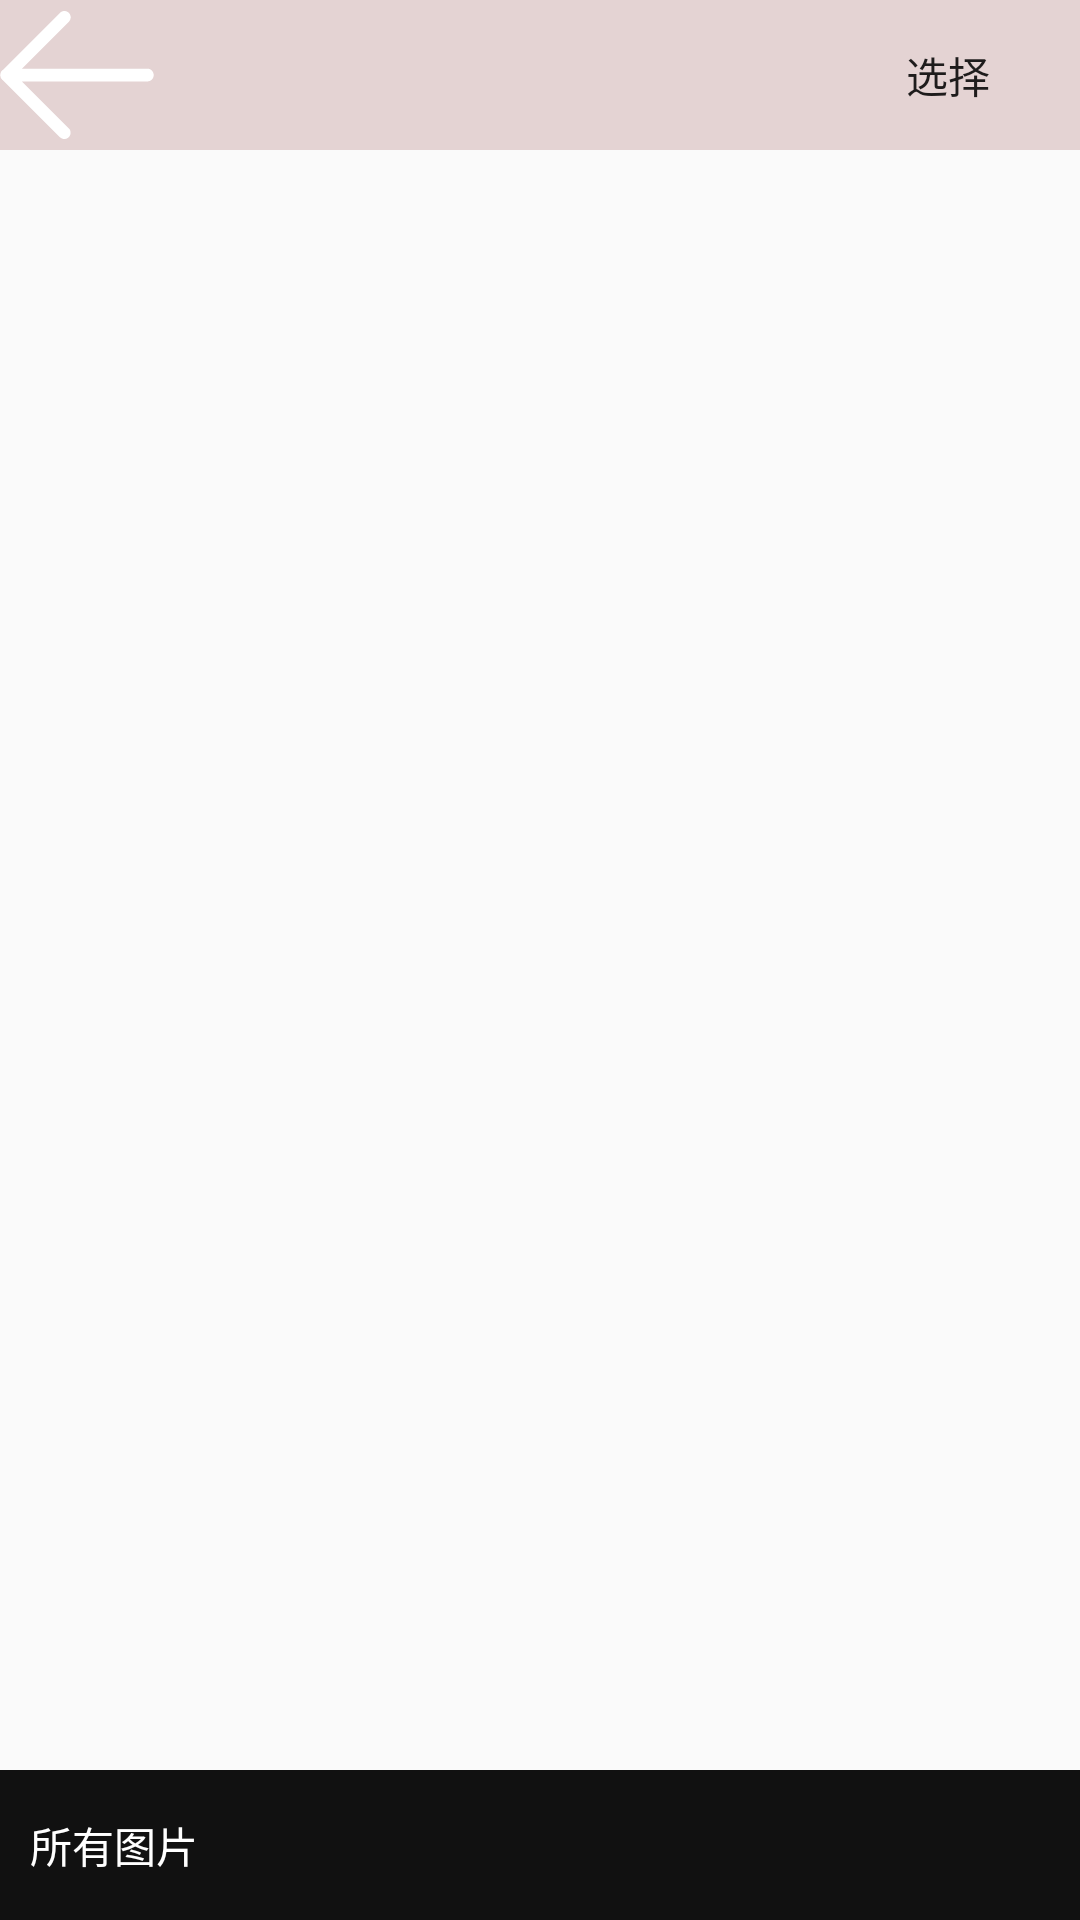

Icon bounding boxes for this 1080px×1920px phone screenshot, format (x1, y1, x2, y2):
backed: (0, 11, 154, 139)
